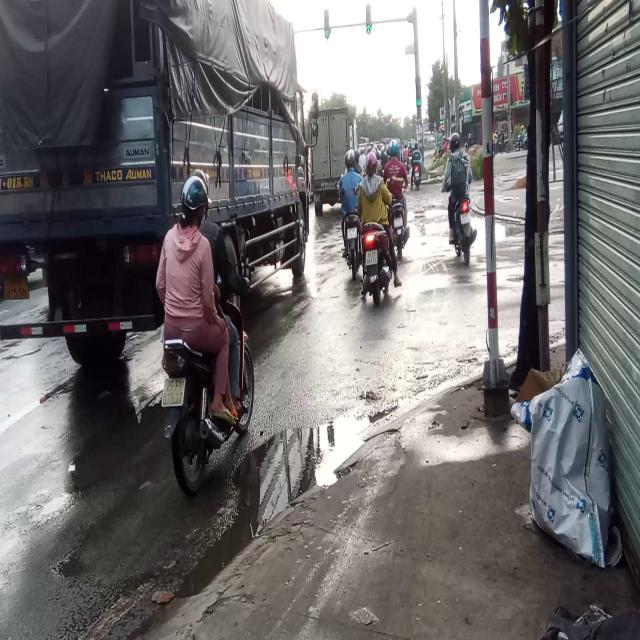bien_trang: (161, 376, 189, 406)
